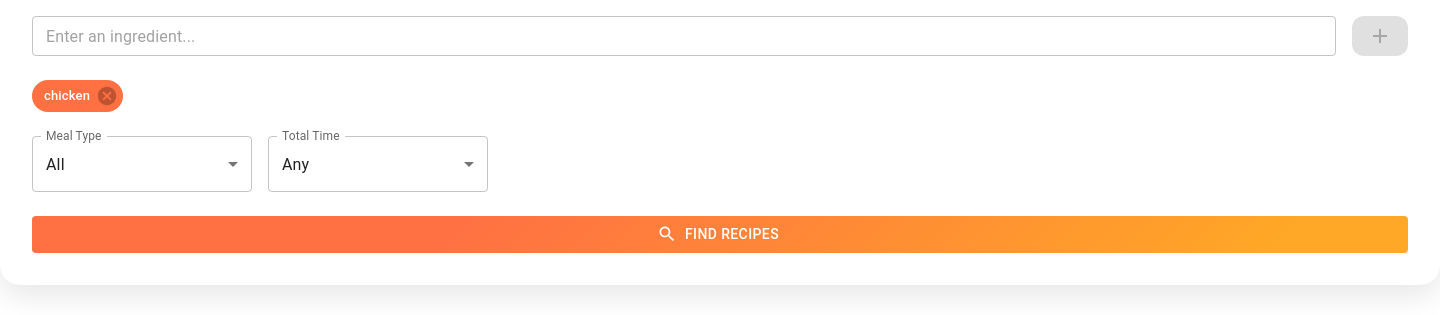
it: RecipePredictionForm › removes an ingredient when clicking the delete button
Click the icon named "delete ingredient chicken" at (107, 96), box [96,85,118,107]
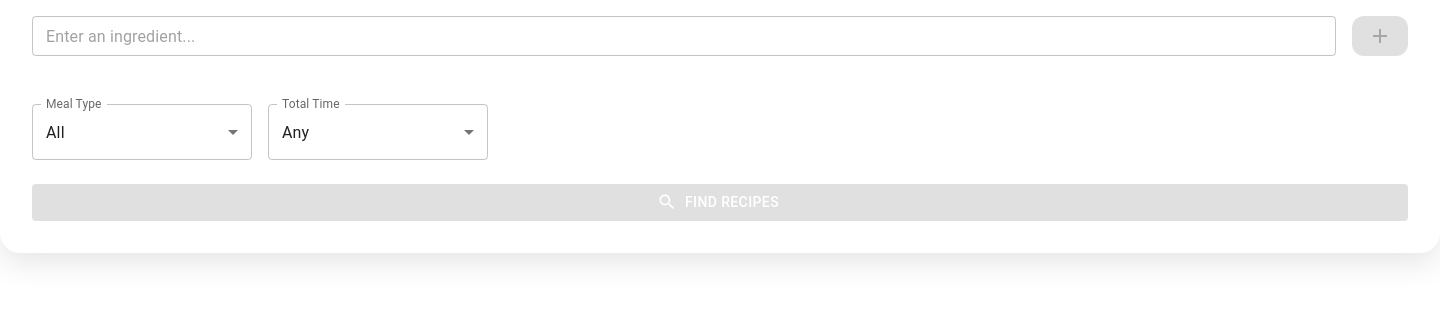
Result: the button "chicken" is gone
